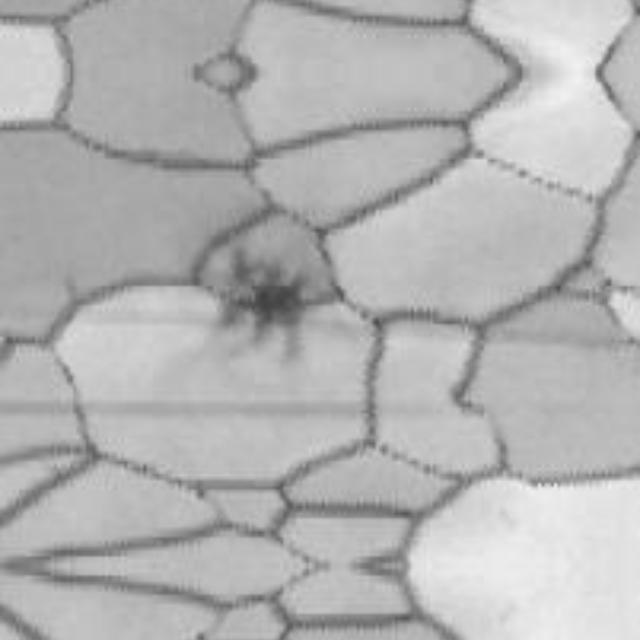good_void: (212, 250, 309, 366)
